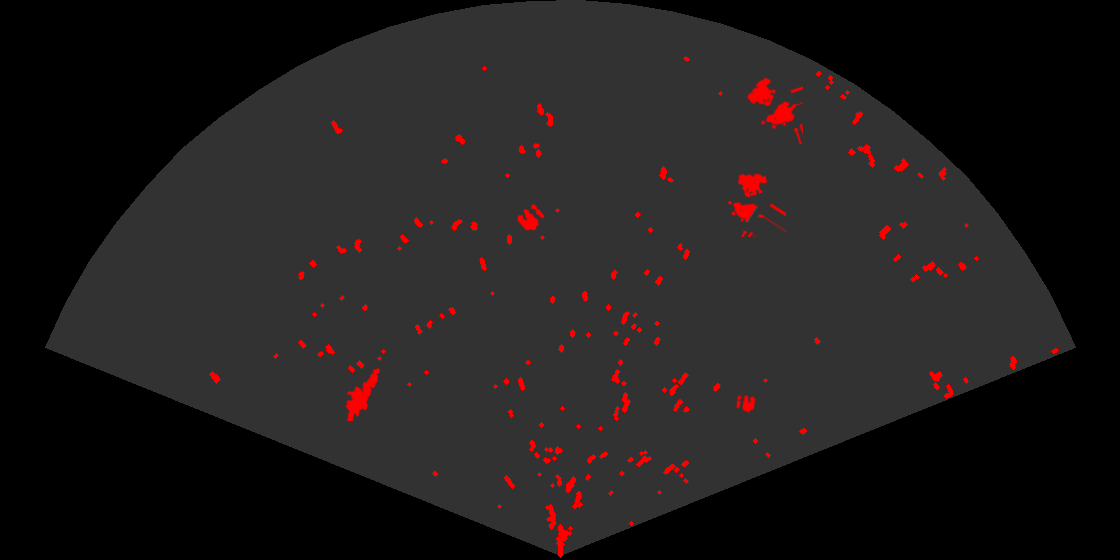ball: (516, 203, 546, 232), (734, 393, 757, 415)
cage: (745, 76, 803, 144), (726, 172, 786, 237)
frogman: (344, 366, 382, 421)
